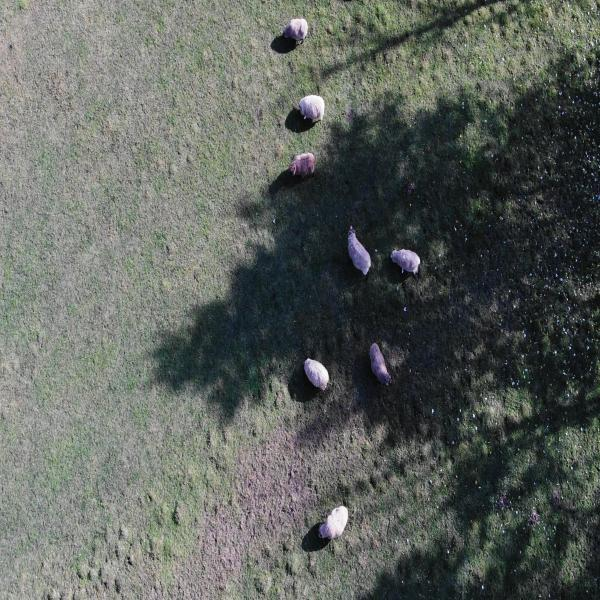sheep: (310, 500, 355, 553), (363, 331, 394, 394), (299, 344, 334, 399), (344, 223, 374, 281), (387, 239, 421, 283), (293, 88, 329, 127), (288, 151, 321, 189), (284, 11, 312, 51)
